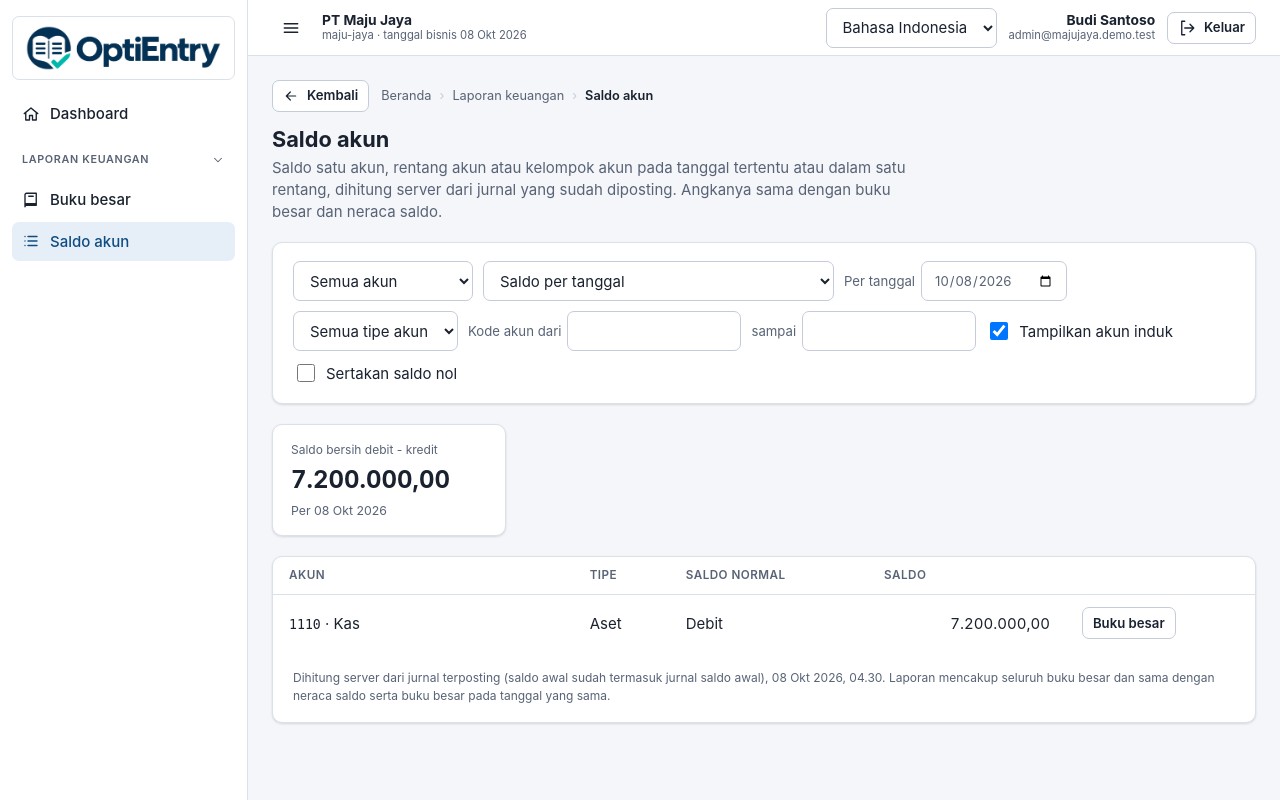
Test: account balance: a dated balance › selects an account group, shows its normal balance and sends the account id
Check: the table named "Saldo akun" is shown, box [273, 558, 1255, 651]
Select "1000 · Aset (induk)" in the dropdown named "Akun" at (383, 281), box [293, 261, 473, 301]
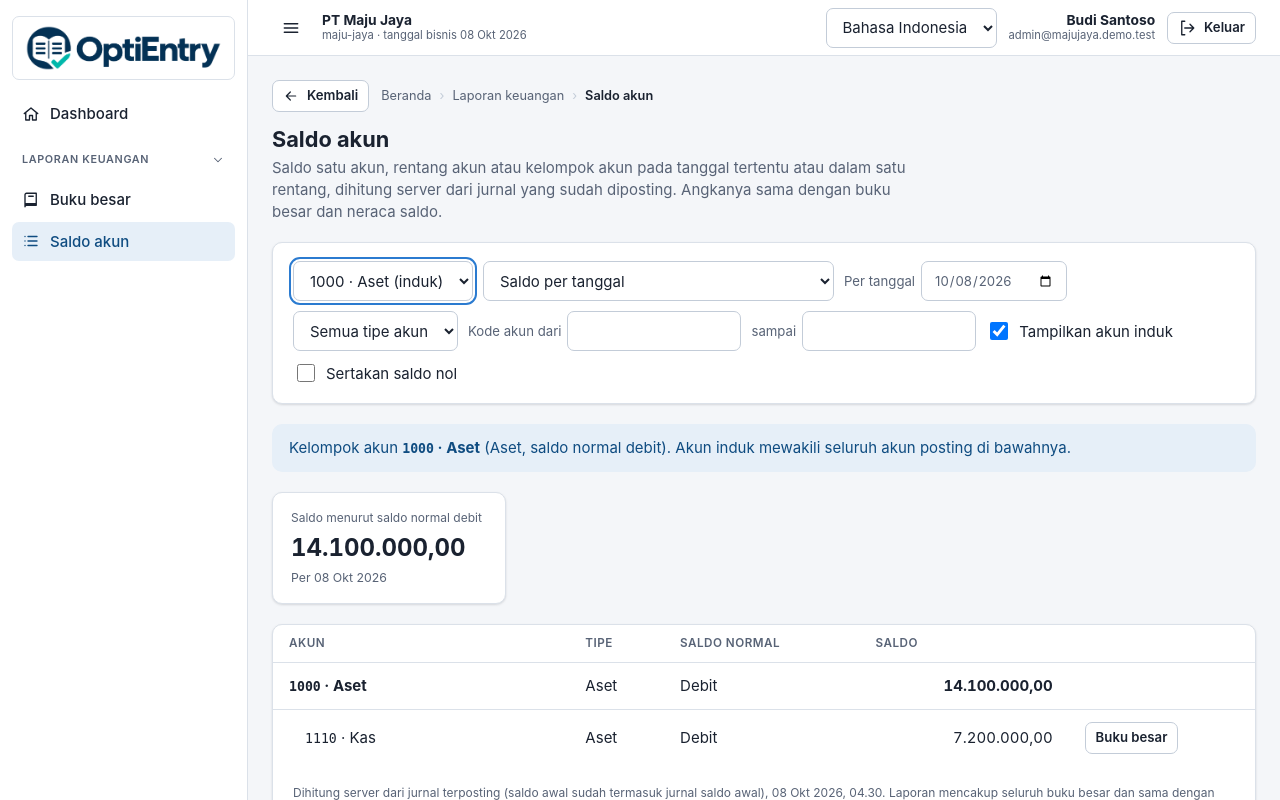
Check: the text "Akun induk mewakili seluruh akun posting di bawahnya" is shown, box [671, 438, 1071, 457]
Check: the text "Saldo menurut saldo normal debit" is shown, box [291, 509, 487, 527]
Check: the 2nd text "14.100.000,00" is shown, box [944, 676, 1053, 695]
